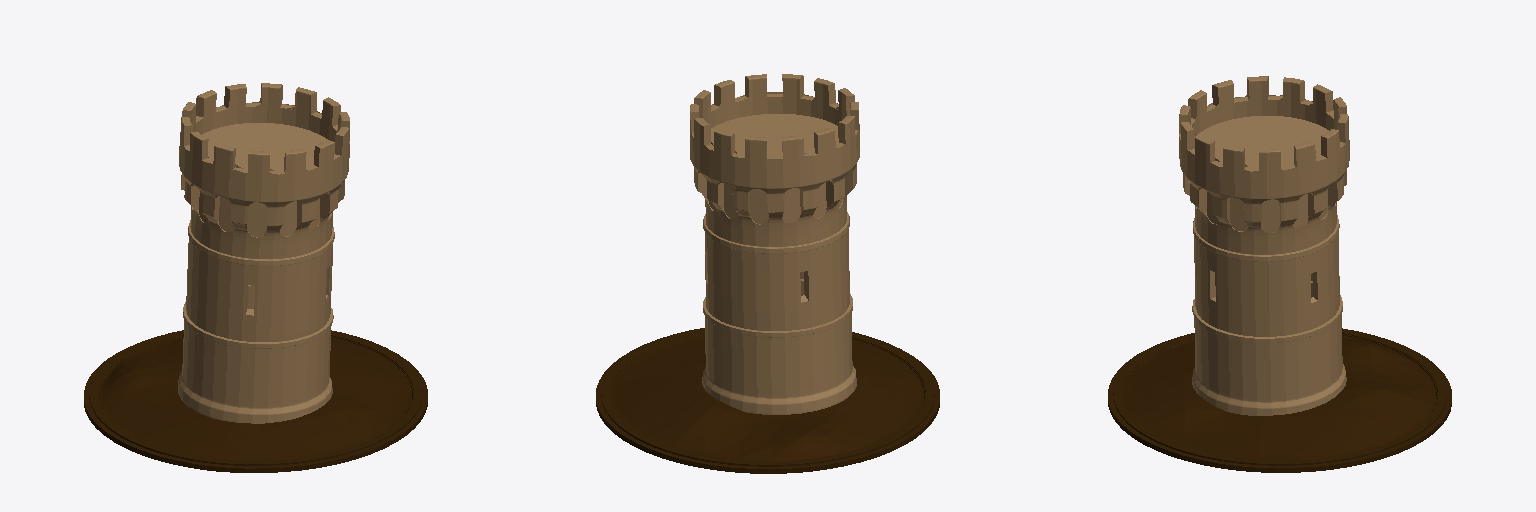
Rendered from tower.obj.
3 views of the same model, side by side, from view 1: azimuth 30°, elevation 25°; view 2: azimuth 150°, elevation 25°; view 3: azimuth 270°, elevation 25° (orthographic).
Visible parts, largest first — view 1: tower_Plane.006, Plane_Plane.001; view 2: tower_Plane.006, Plane_Plane.001; view 3: tower_Plane.006, Plane_Plane.001.
Part boxes in pixels (bbox=[...]): tower_Plane.006: bbox=[178, 83, 349, 423]; Plane_Plane.001: bbox=[84, 330, 427, 472]; tower_Plane.006: bbox=[690, 74, 859, 414]; Plane_Plane.001: bbox=[596, 328, 939, 473]; tower_Plane.006: bbox=[1179, 76, 1349, 415]; Plane_Plane.001: bbox=[1108, 328, 1451, 472].
Bounding box in the file's own units: 6.51 × 6.05 × 6.51.